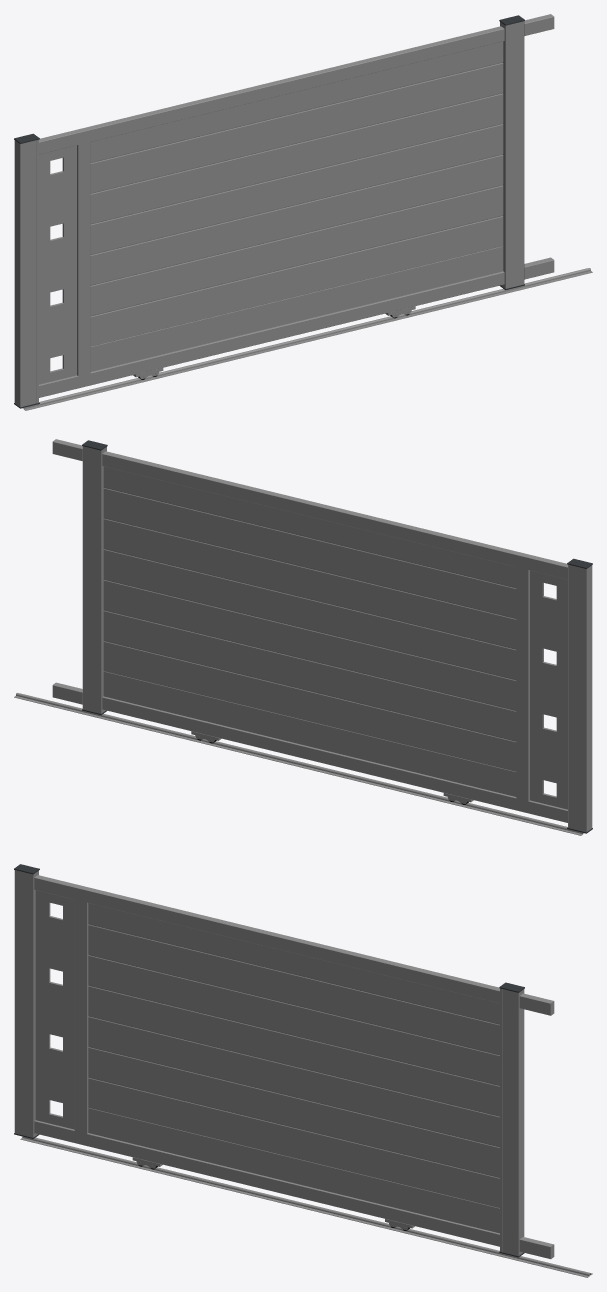
The picture shows the model from 3 angles, top to bottom: view 1: azimuth 30°, elevation 25°; view 2: azimuth 150°, elevation 25°; view 3: azimuth 330°, elevation 25°; orthographic projection.
Visible parts, largest first — view 1: Shape107412855, Shape107412850, Shape107412852, Shape107412853, Shape107412854, Shape107412851, Shape107412856, Shape107411997, carre, Shape107412011, Shape107412010, Shape107412643 (+3 smaller); view 2: Shape107412850, Shape107412852, Shape107412855, Shape107412853, Shape107412851, Shape107412854, Shape107412856, Shape107411997, carre, Shape107412011, Shape107412010, Shape107412643 (+3 smaller); view 3: Shape107412850, Shape107412851, Shape107412852, Shape107412853, Shape107412854, Shape107412855, Shape107412856, Shape107411997, carre, Shape107412011, Shape107412010, Shape107413021 (+3 smaller).
Part boxes in pixels (bbox=[...]): Shape107412855: bbox=[90, 215, 503, 346]; Shape107412850: bbox=[90, 62, 503, 193]; Shape107412852: bbox=[90, 123, 503, 254]; Shape107412853: bbox=[90, 154, 503, 285]; Shape107412854: bbox=[90, 185, 503, 315]; Shape107412851: bbox=[90, 93, 503, 223]; Shape107412856: bbox=[90, 246, 503, 371]; Shape107411997: bbox=[90, 41, 503, 162]; carre: bbox=[39, 145, 76, 384]; Shape107412011: bbox=[39, 14, 554, 154]; Shape107412010: bbox=[39, 257, 554, 397]; Shape107412643: bbox=[14, 139, 38, 407]; Shape107412850: bbox=[103, 487, 516, 618]; Shape107412852: bbox=[103, 548, 516, 679]; Shape107412855: bbox=[103, 640, 516, 771]; Shape107412853: bbox=[103, 579, 516, 710]; Shape107412851: bbox=[103, 518, 516, 648]; Shape107412854: bbox=[103, 610, 516, 740]; Shape107412856: bbox=[103, 671, 516, 796]; Shape107411997: bbox=[103, 466, 516, 587]; carre: bbox=[530, 570, 567, 809]; Shape107412011: bbox=[52, 439, 567, 579]; Shape107412010: bbox=[52, 682, 567, 822]; Shape107412643: bbox=[568, 564, 592, 832]; Shape107412850: bbox=[88, 924, 499, 1054]; Shape107412851: bbox=[88, 954, 499, 1085]; Shape107412852: bbox=[88, 985, 499, 1115]; Shape107412853: bbox=[88, 1016, 499, 1146]; Shape107412854: bbox=[88, 1046, 499, 1177]; Shape107412855: bbox=[88, 1077, 499, 1207]; Shape107412856: bbox=[88, 1108, 499, 1233]; Shape107411997: bbox=[88, 903, 499, 1023]; carre: bbox=[35, 890, 74, 1129]; Shape107412011: bbox=[34, 875, 554, 1015]; Shape107412010: bbox=[34, 1120, 554, 1259]; Shape107413021: bbox=[500, 988, 524, 1255].
Size of the model in its own units: 3638 by 1636 by 70.
6 materials, 2 textured.
